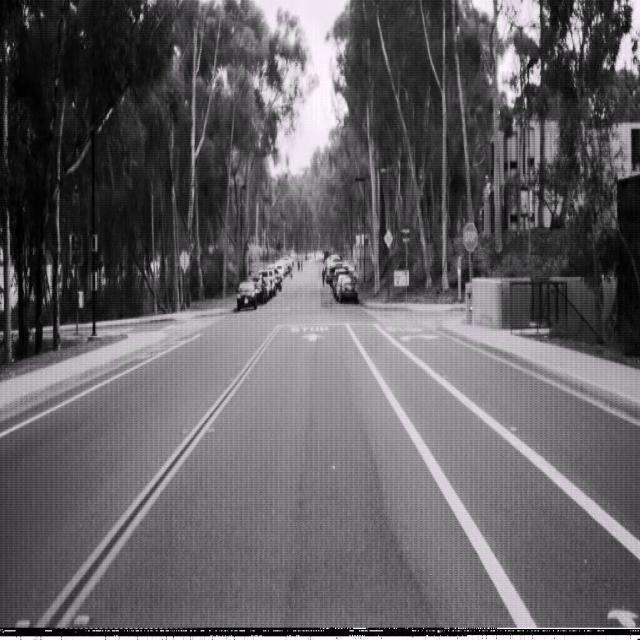stop_sign: (462, 220, 477, 252)
